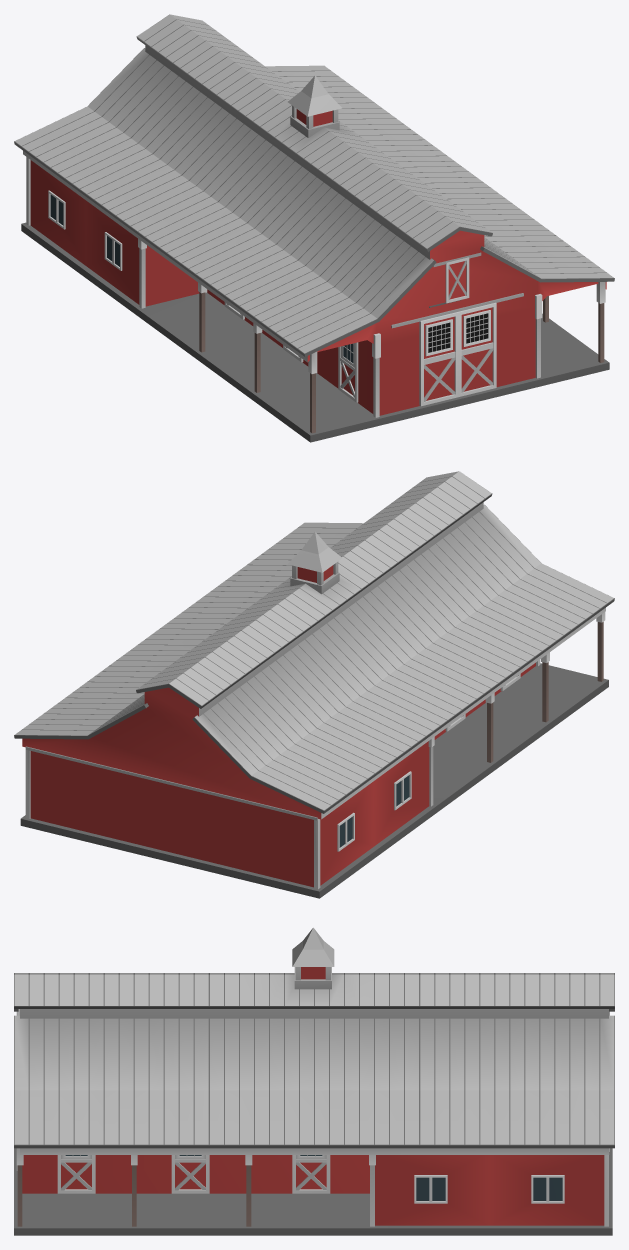
Rendered from hangar_001.glb.
3 views of the same model, one above another, from view 1: azimuth 30°, elevation 25°; view 2: azimuth 150°, elevation 25°; view 3: azimuth 270°, elevation 25° (orthographic). The views are drawn at different scales.
Visible parts, largest first — view 1: hangar_001; view 2: hangar_001; view 3: hangar_001.
Part boxes in pixels (x1=…): hangar_001: x1=14, y1=14, x2=614, y2=442; hangar_001: x1=14, y1=471, x2=614, y2=898; hangar_001: x1=14, y1=927, x2=614, y2=1235.
Bounding box in the file's own units: 13.74 × 9.52 × 22.28.
Materials: 1 (1 with a texture image).
